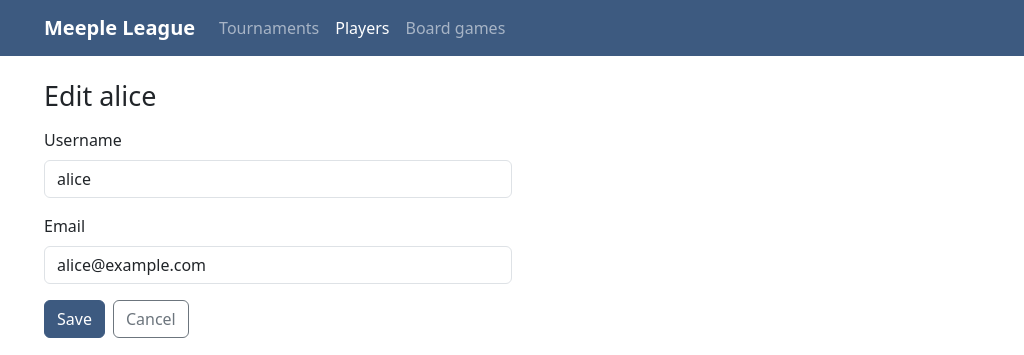
Test: players › prefills the edit form and updates the player
The width and height of the screenshot is (1024, 355).
Replace the text in the field labelled "Username" with "alicia" at (278, 179), box 44,160 -> 512,198
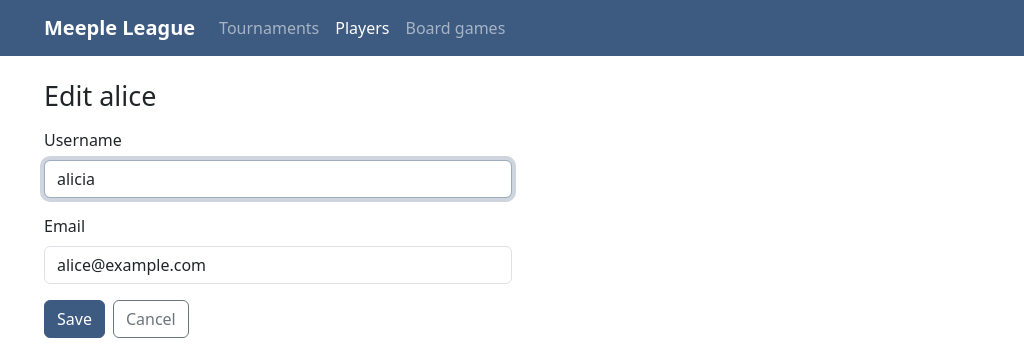
Click the button "Save" at (74, 319), box 44,300 -> 105,338
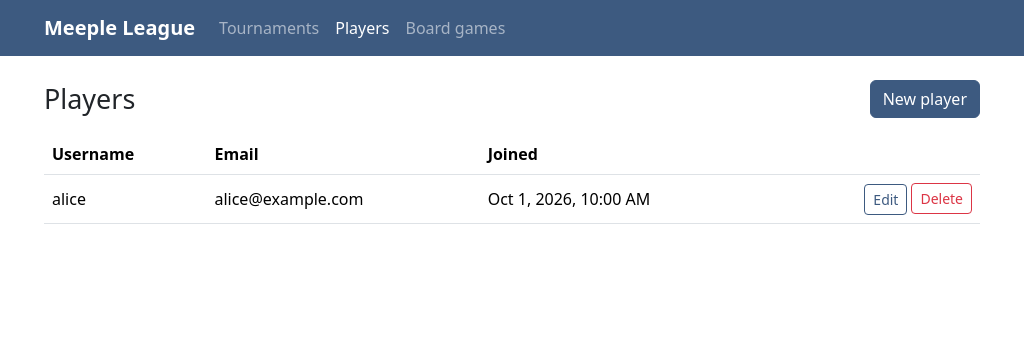
Check: the heading "Players" is shown, box 44,83 -> 135,115
